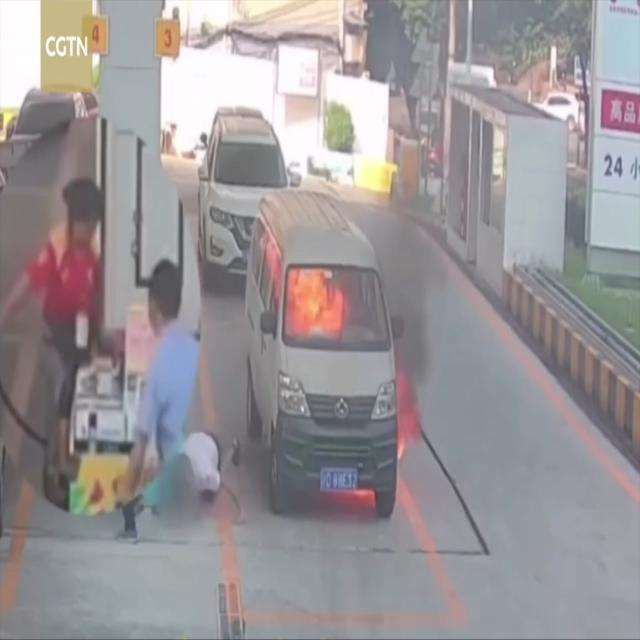fire: (266, 255, 348, 335), (392, 359, 427, 458)
